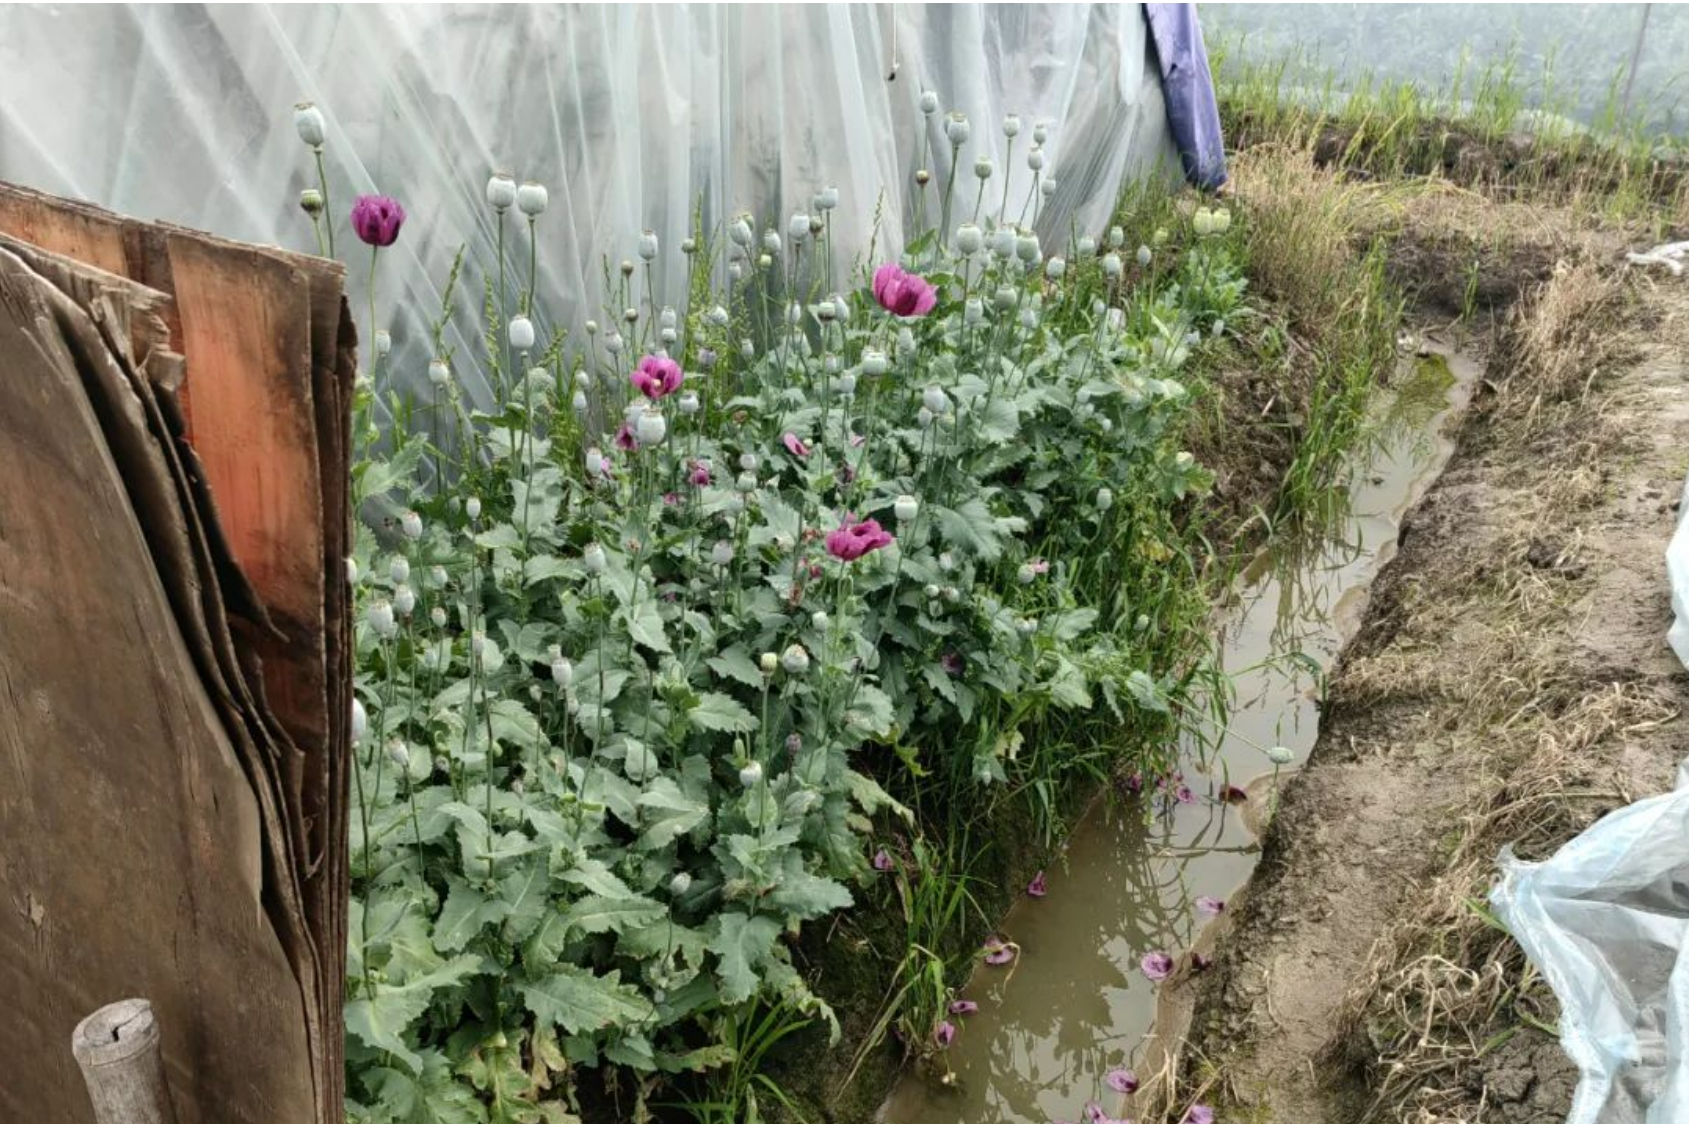Poppy: (282, 85, 1266, 1106)
